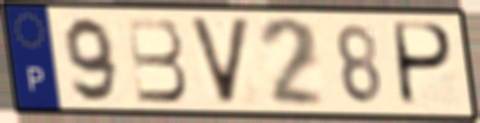2: (257, 15, 331, 110)
8: (334, 22, 384, 105)
9: (60, 14, 122, 104)
B: (123, 15, 192, 105)
P: (393, 20, 458, 111)
V: (185, 15, 254, 108)
